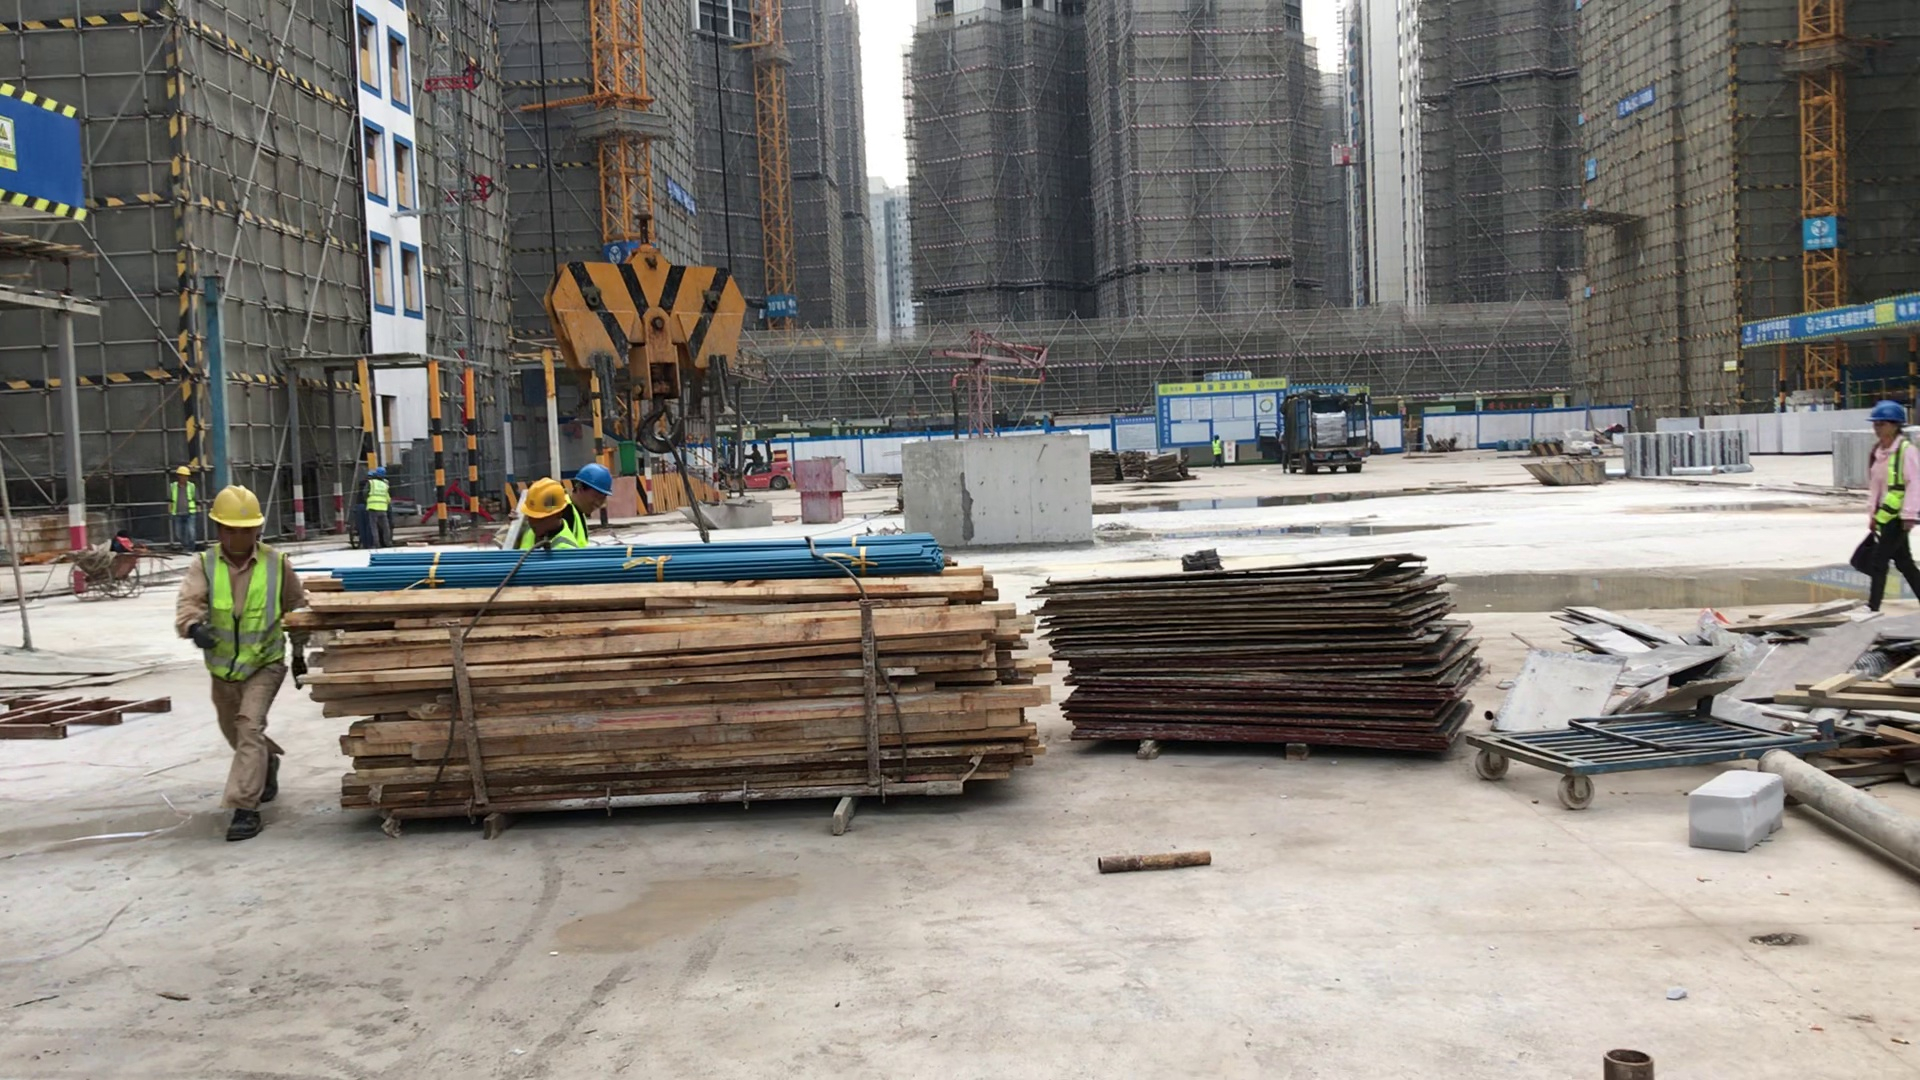board: (1038, 569, 1481, 759)
brick: (1655, 413, 1876, 451)
handcart: (1470, 695, 1811, 804), (63, 530, 168, 607)
hook: (536, 239, 770, 451)
hopper: (677, 500, 778, 531), (1515, 457, 1610, 489)
person: (191, 478, 291, 847), (1863, 394, 1920, 593), (502, 464, 618, 547), (157, 452, 204, 557), (350, 457, 400, 548), (206, 483, 268, 537), (524, 476, 565, 521), (573, 462, 613, 498), (1870, 399, 1907, 426), (742, 442, 764, 474), (1211, 432, 1225, 469), (173, 463, 195, 481), (370, 466, 387, 480)
slogan: (1612, 81, 1660, 121), (1799, 216, 1840, 254), (666, 174, 701, 218), (766, 293, 810, 323), (1580, 155, 1603, 186)
vest: (200, 545, 288, 679), (1873, 436, 1908, 521), (522, 514, 590, 546), (170, 482, 196, 517), (366, 478, 390, 512), (1211, 439, 1223, 455)
wood: (297, 563, 1041, 818)
